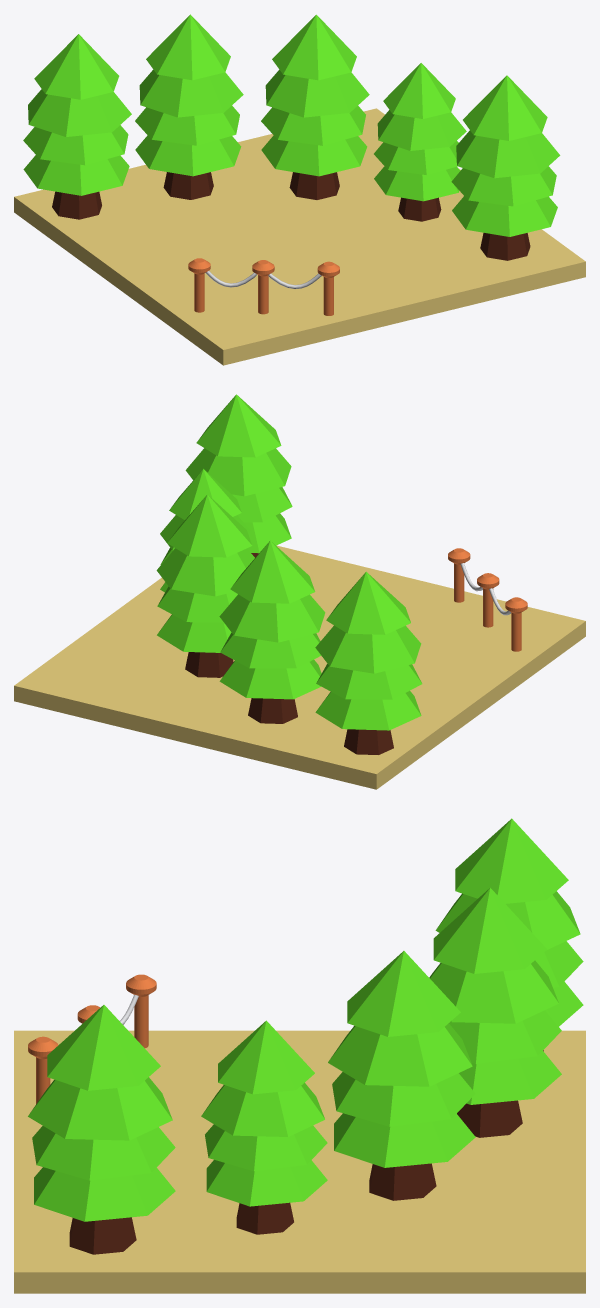
The picture shows the model from 3 angles, top to bottom: view 1: azimuth 30°, elevation 25°; view 2: azimuth 150°, elevation 25°; view 3: azimuth 270°, elevation 25°; orthographic projection. The views are drawn at different scales.
Visible parts, largest first — view 1: Cube, Cylinder.004, Cylinder.001, Cylinder.002, Cylinder, Cylinder.003, Cylinder.005, Cylinder.006, Cylinder.007, BezierCurve; view 2: Cube, Cylinder, Cylinder.001, Cylinder.002, Cylinder.004, Cylinder.003, Cylinder.005, Cylinder.006, Cylinder.007; view 3: Cube, Cylinder.004, Cylinder.002, Cylinder.001, Cylinder.003, Cylinder, Cylinder.005, Cylinder.007.
Part boxes in pixels (<box>): Cube: <box>14,108,585,365</box>; Cylinder.004: <box>451,75,560,260</box>; Cylinder.001: <box>135,14,243,199</box>; Cylinder.002: <box>261,14,369,199</box>; Cylinder: <box>23,34,131,219</box>; Cylinder.003: <box>374,63,466,221</box>; Cylinder.005: <box>188,258,210,312</box>; Cylinder.006: <box>252,260,274,314</box>; Cylinder.007: <box>317,261,339,315</box>; BezierCurve: <box>205,271,321,289</box>; Cube: <box>14,545,585,789</box>; Cylinder: <box>315,571,422,754</box>; Cylinder.001: <box>219,540,325,723</box>; Cylinder.002: <box>156,494,254,677</box>; Cylinder.004: <box>185,394,292,557</box>; Cylinder.003: <box>160,469,250,592</box>; Cylinder.005: <box>505,597,527,651</box>; Cylinder.006: <box>477,573,499,627</box>; Cylinder.007: <box>448,548,470,602</box>; Cube: <box>14,1030,585,1293</box>; Cylinder.004: <box>28,1005,175,1254</box>; Cylinder.002: <box>328,951,475,1200</box>; Cylinder.001: <box>429,887,561,1137</box>; Cylinder.003: <box>201,1020,327,1234</box>; Cylinder: <box>435,818,583,1051</box>; Cylinder.005: <box>126,974,156,1048</box>; Cylinder.007: <box>28,1036,58,1103</box>.
Size of the model in its own units: 2065 by 997 by 2000.
